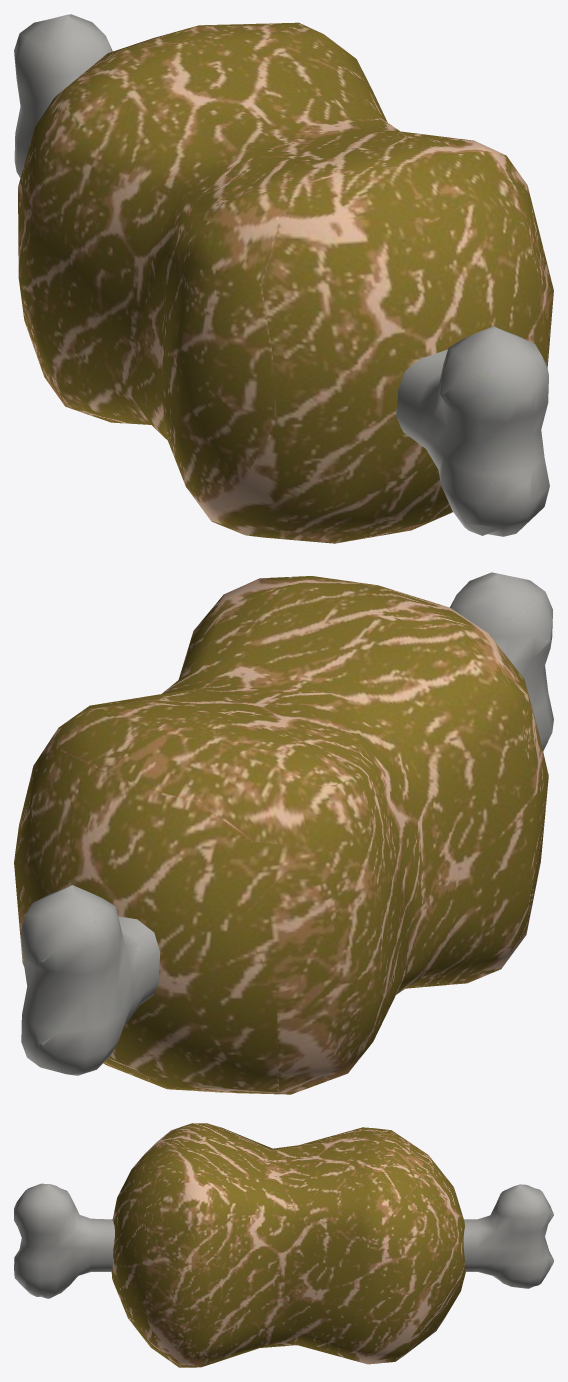
Rendered from meatPoison.fbx.
3 renders of one model, top to bottom at view 1: azimuth 30°, elevation 25°; view 2: azimuth 150°, elevation 25°; view 3: azimuth 270°, elevation 25°, orthographic. The views are drawn at different scales.
Visible parts, largest first — view 1: meatPoison_1; view 2: meatPoison_1; view 3: meatPoison_1.
Part boxes in pixels (x1,y1,x2,y2): meatPoison_1: [14, 14, 553, 543]; meatPoison_1: [14, 572, 553, 1094]; meatPoison_1: [14, 1123, 553, 1367].
Bounding box in the file's own units: 107 × 107 × 257.
1 material, 1 textured.
